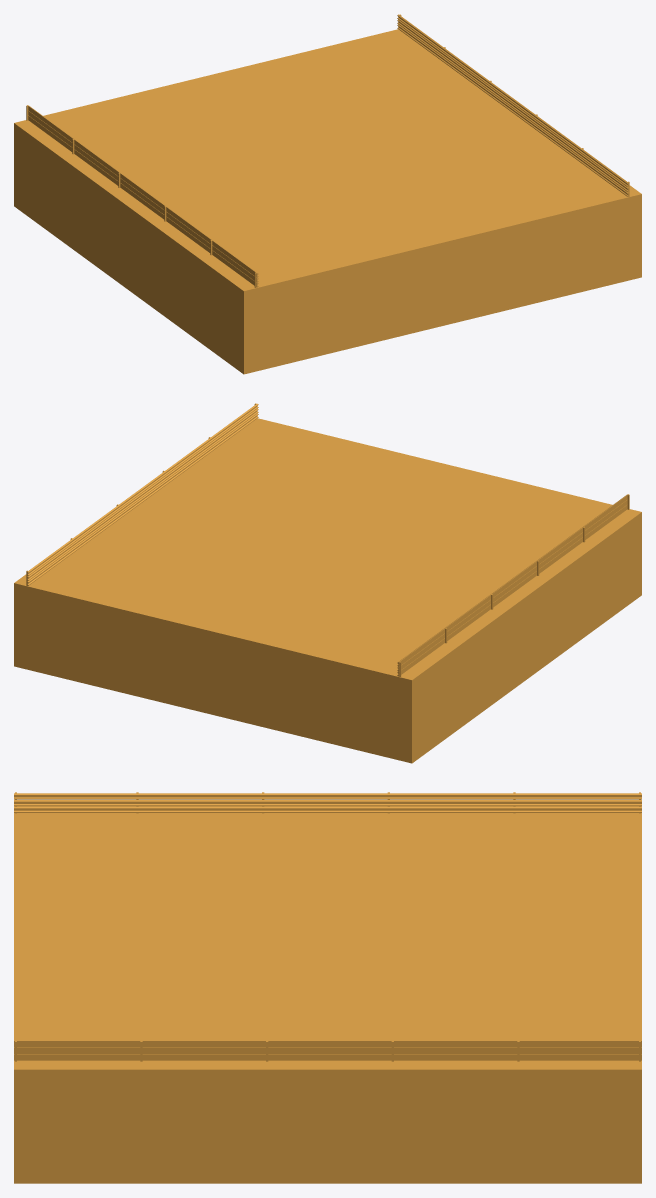
The model's file is race_track_skinnied.fbx.
The picture shows the model from 3 angles, top to bottom: view 1: azimuth 30°, elevation 25°; view 2: azimuth 150°, elevation 25°; view 3: azimuth 270°, elevation 25°; orthographic projection. The views are drawn at different scales.
Visible parts, largest first — view 1: tile-race-track-straight-curbs; view 2: tile-race-track-straight-curbs; view 3: tile-race-track-straight-curbs.
Boxes of the visible parts, box(x1,y1,x2,y2) form: tile-race-track-straight-curbs: box(14, 14, 641, 374); tile-race-track-straight-curbs: box(14, 403, 641, 763); tile-race-track-straight-curbs: box(14, 792, 641, 1183).
Size of the model in its own units: 30 by 7.05 by 30.
